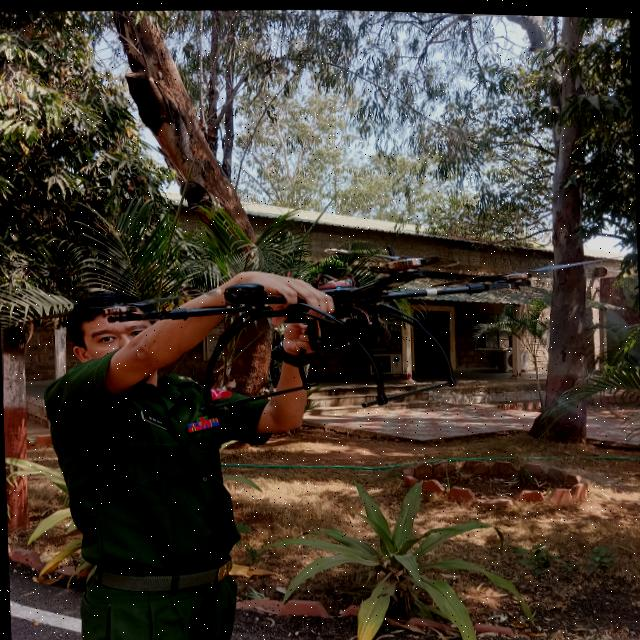drone: (97, 204, 625, 441)
